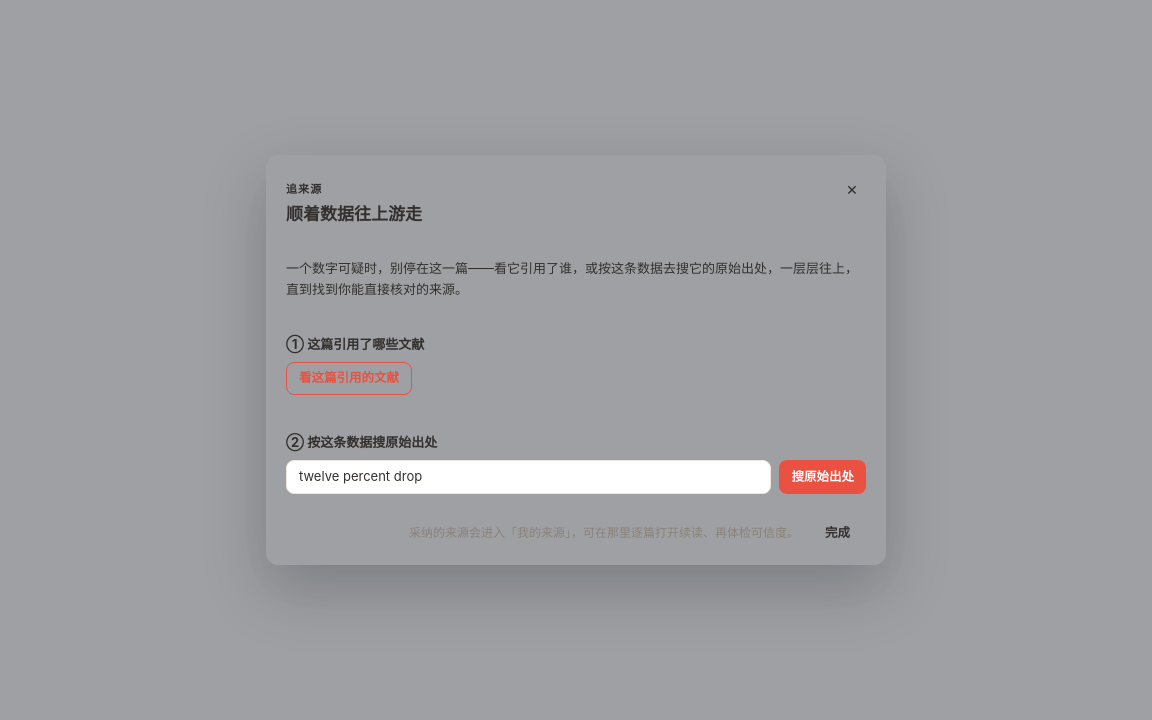
TraceSourcePanel › no-DOI source: citation returns empty → guidance to search; search box seeded from the referenced quote
Expected: the field showing "twelve percent drop" is shown, [286,460,772,494]
Step 1. Click the button "看这篇引用的文献" → [349, 378], box [286,362,412,395]
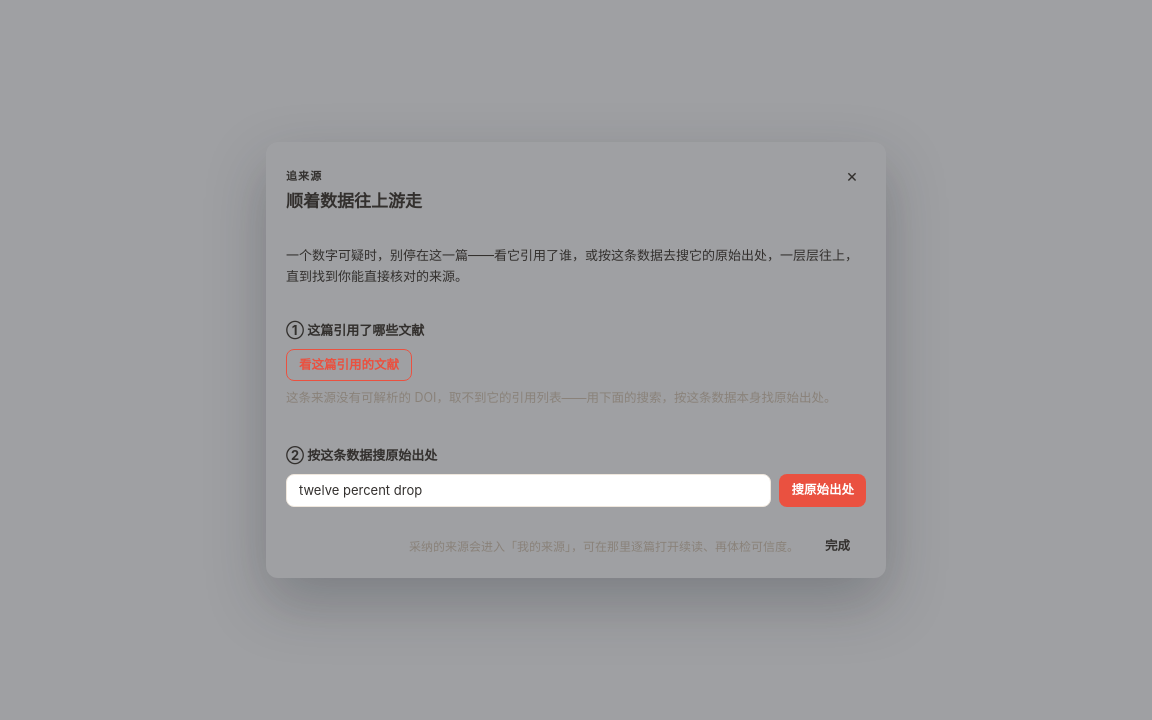
Expected: the text "这条来源没有可解析的 DOI，取不到它的引用列表——用下面的搜索，按这条数据本身找原始出处。" is shown, [286,390,866,408]
Step 2. Click the button "搜原始出处" → [823, 490], box [780,474,866,507]
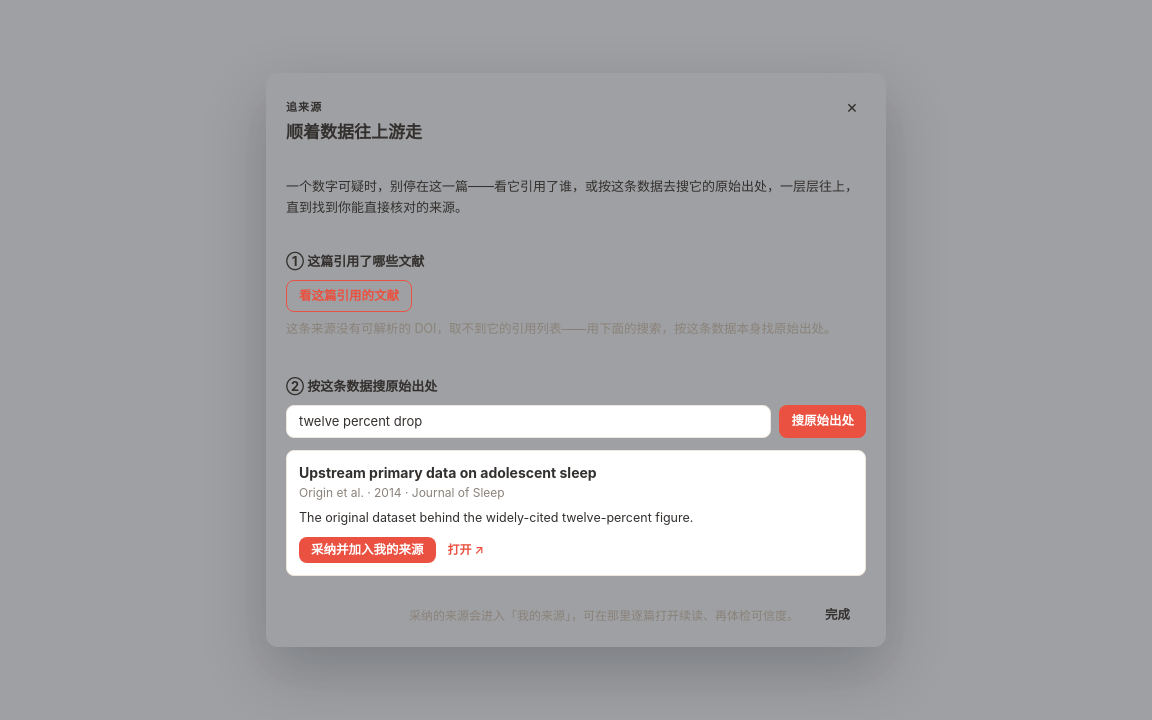
Expected: the text "Upstream primary data on adolescent sleep" is shown, [299,464,597,481]
